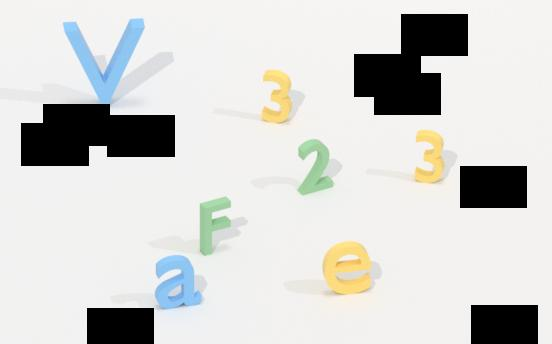2: (291, 136, 341, 199)
3: (408, 128, 453, 186), (255, 66, 297, 128)
F: (194, 194, 241, 259)
a: (152, 254, 205, 310)
e: (320, 241, 375, 295)
v: (52, 20, 152, 113)
